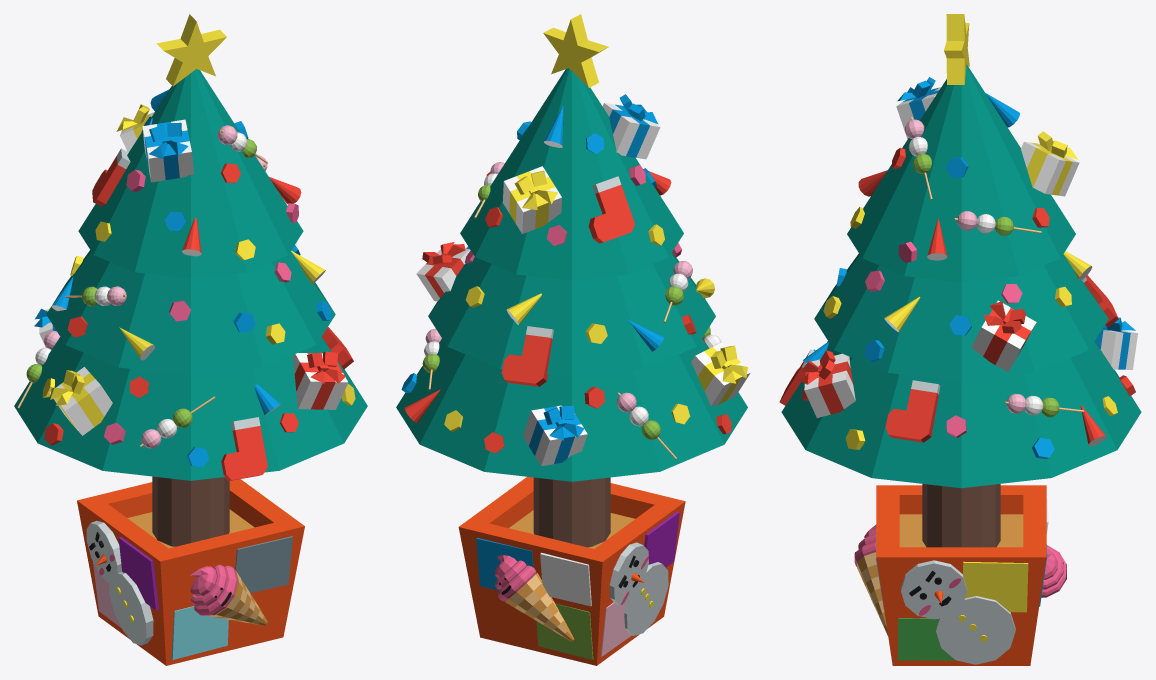
Rendered from 聖誕樹.glb.
3 views of the same model, side by side, from view 1: azimuth 30°, elevation 25°; view 2: azimuth 150°, elevation 25°; view 3: azimuth 270°, elevation 25° (orthographic). The views are drawn at different scales.
Visible parts, largest first — view 1: group291497226; view 2: group291497226; view 3: group291497226.
Part boxes in pixels (x1=…): group291497226: x1=14, y1=14, x2=367, y2=665; group291497226: x1=396, y1=14, x2=750, y2=665; group291497226: x1=779, y1=14, x2=1141, y2=665.
Size of the model in its own units: 0.4904 by 0.9294 by 0.4899.
1 material, 1 textured.
